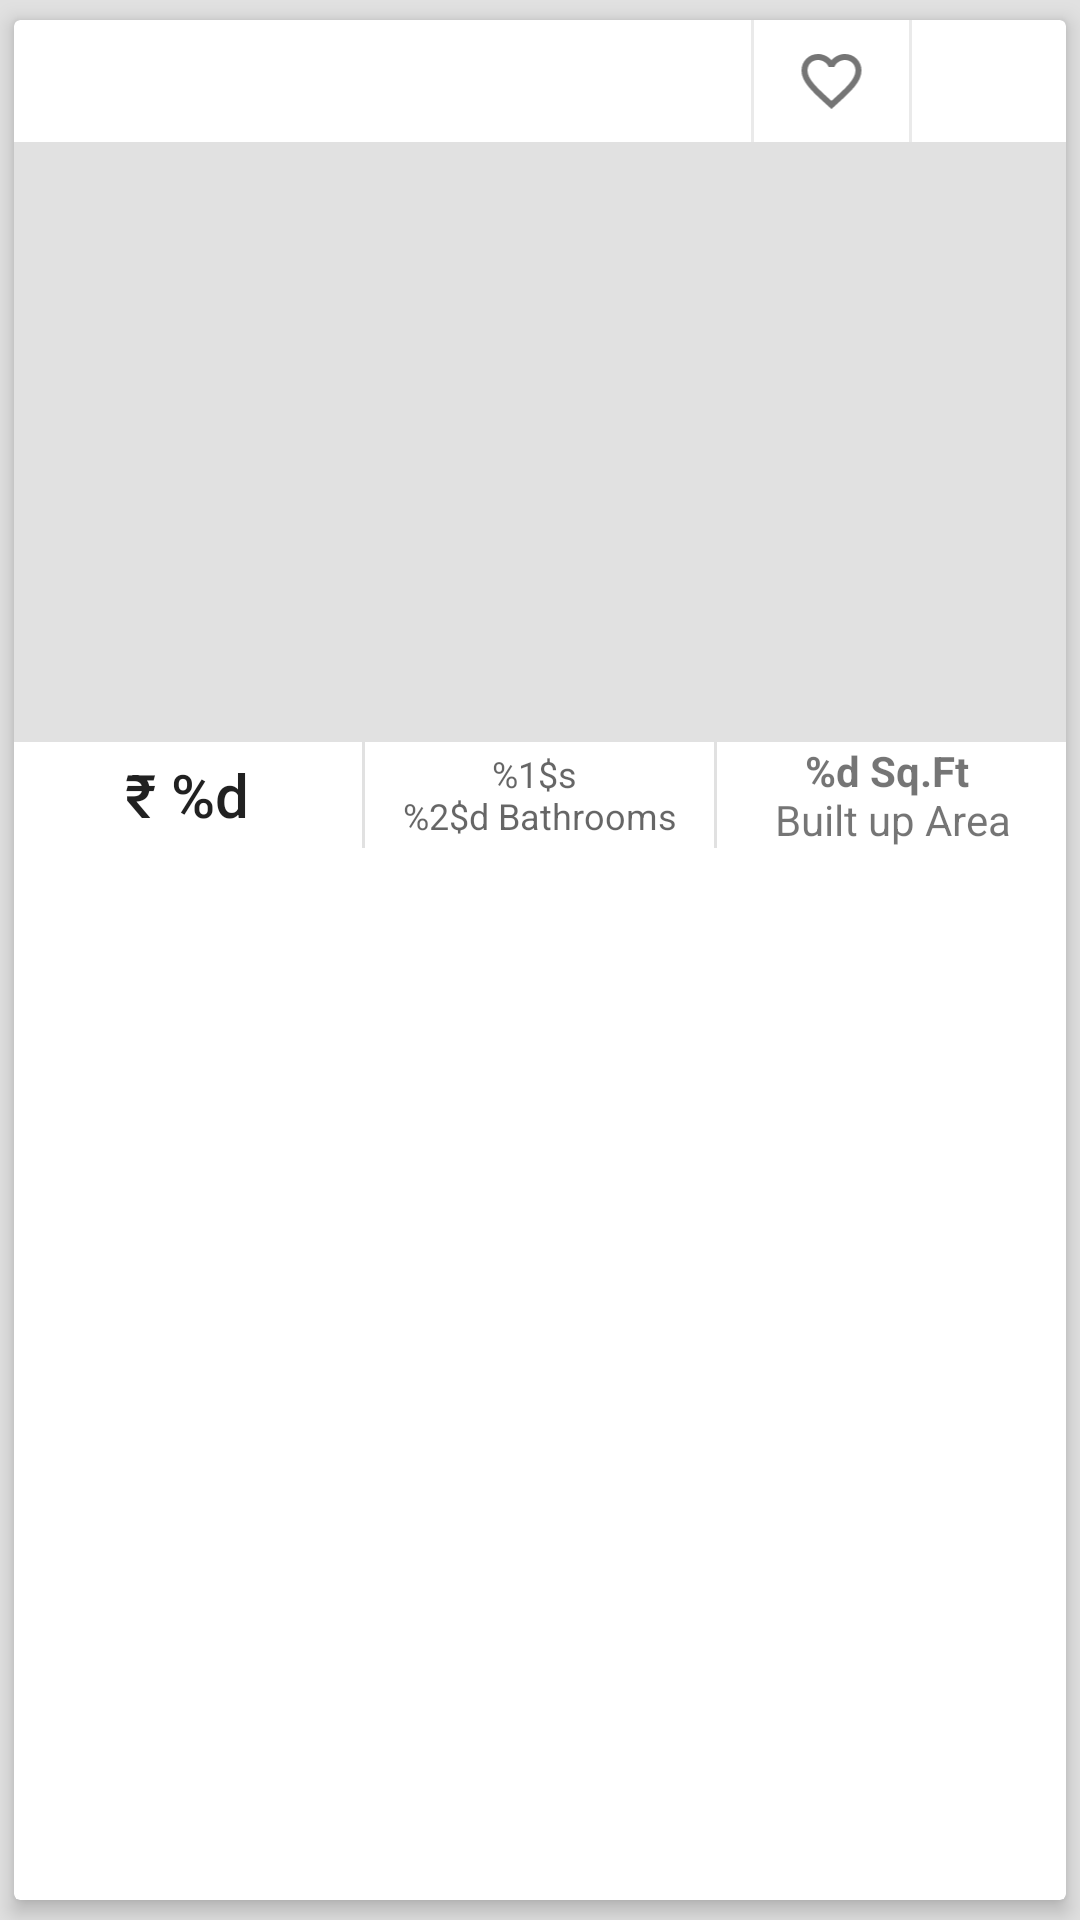

Named icons in this screenshot (1080w x 1920h) and their centers, [x,y]:
favorite border: [831,81]
